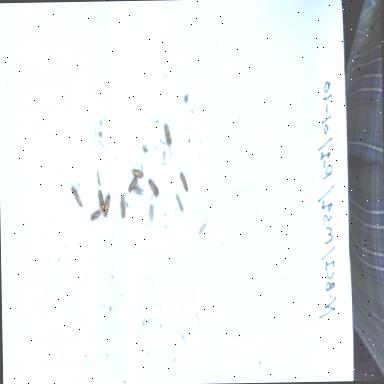pbw: (116, 192, 130, 222), (91, 187, 106, 213), (70, 184, 84, 210), (128, 160, 146, 180), (148, 172, 160, 202), (125, 175, 143, 193), (102, 188, 112, 219), (180, 167, 190, 197), (197, 216, 209, 238), (148, 201, 157, 229), (89, 204, 102, 222), (164, 122, 172, 150), (176, 190, 184, 213)
